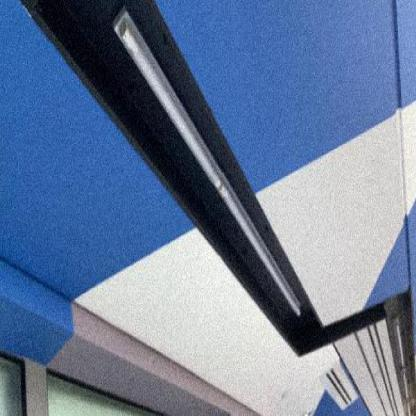light_off: (104, 4, 307, 335)
